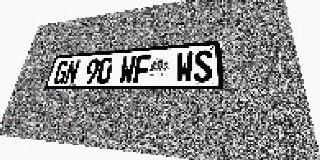0: (96, 57, 114, 84)
9: (83, 58, 101, 84)
F: (133, 54, 151, 83)
G: (52, 60, 70, 85)
N: (63, 60, 81, 84)
S: (194, 50, 213, 82)
W: (175, 51, 193, 82), (118, 55, 136, 83)
